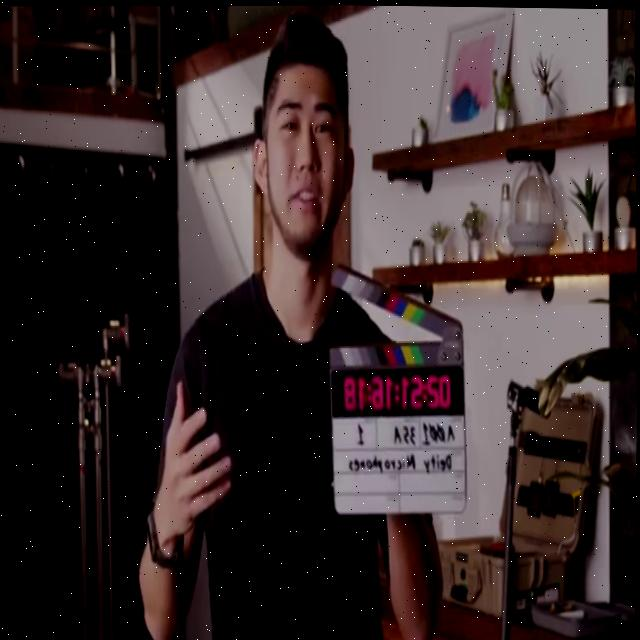Clapperboard: (325, 268, 466, 515)
